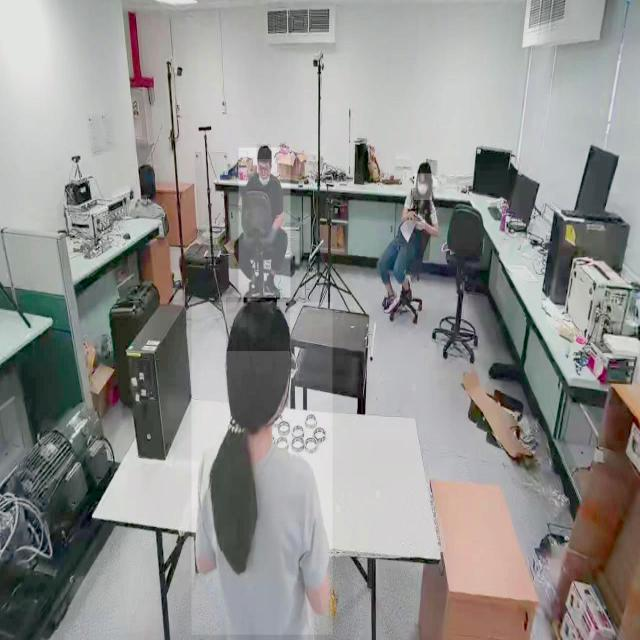face_mask: (414, 173, 432, 200)
hand_noglove: (416, 214, 426, 230), (408, 209, 417, 221)
head_nohelmet: (226, 297, 290, 352), (256, 144, 272, 160), (416, 160, 432, 175)
person: (191, 302, 333, 636), (376, 160, 440, 317), (239, 148, 291, 298)
shoes: (262, 270, 282, 298), (380, 290, 400, 317), (402, 270, 412, 304)
